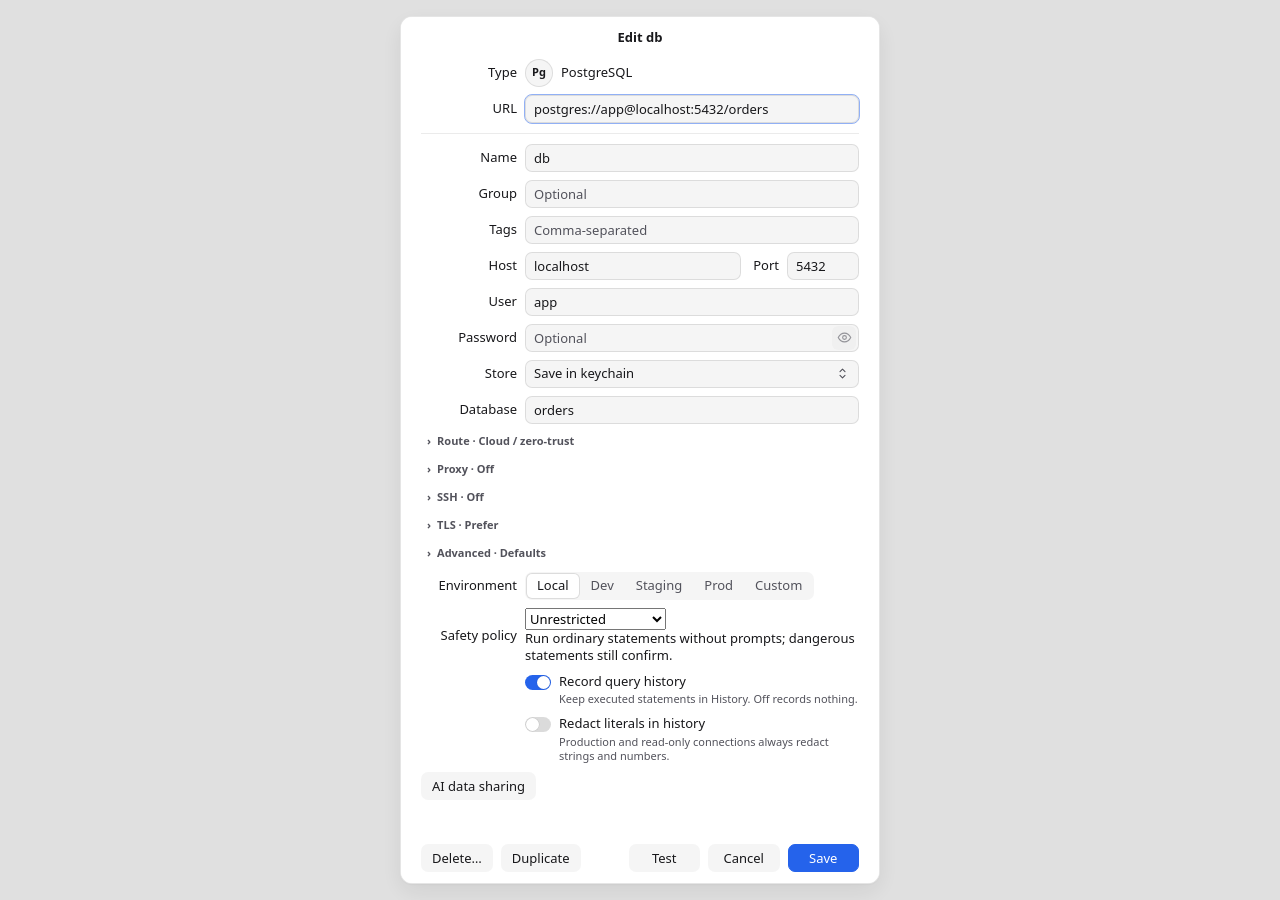
Test: shows Test connection step by step with timings, the failing step and its hint
Click the button "Test" at (664, 858), box [628,844,700,872]
(page scrolled)
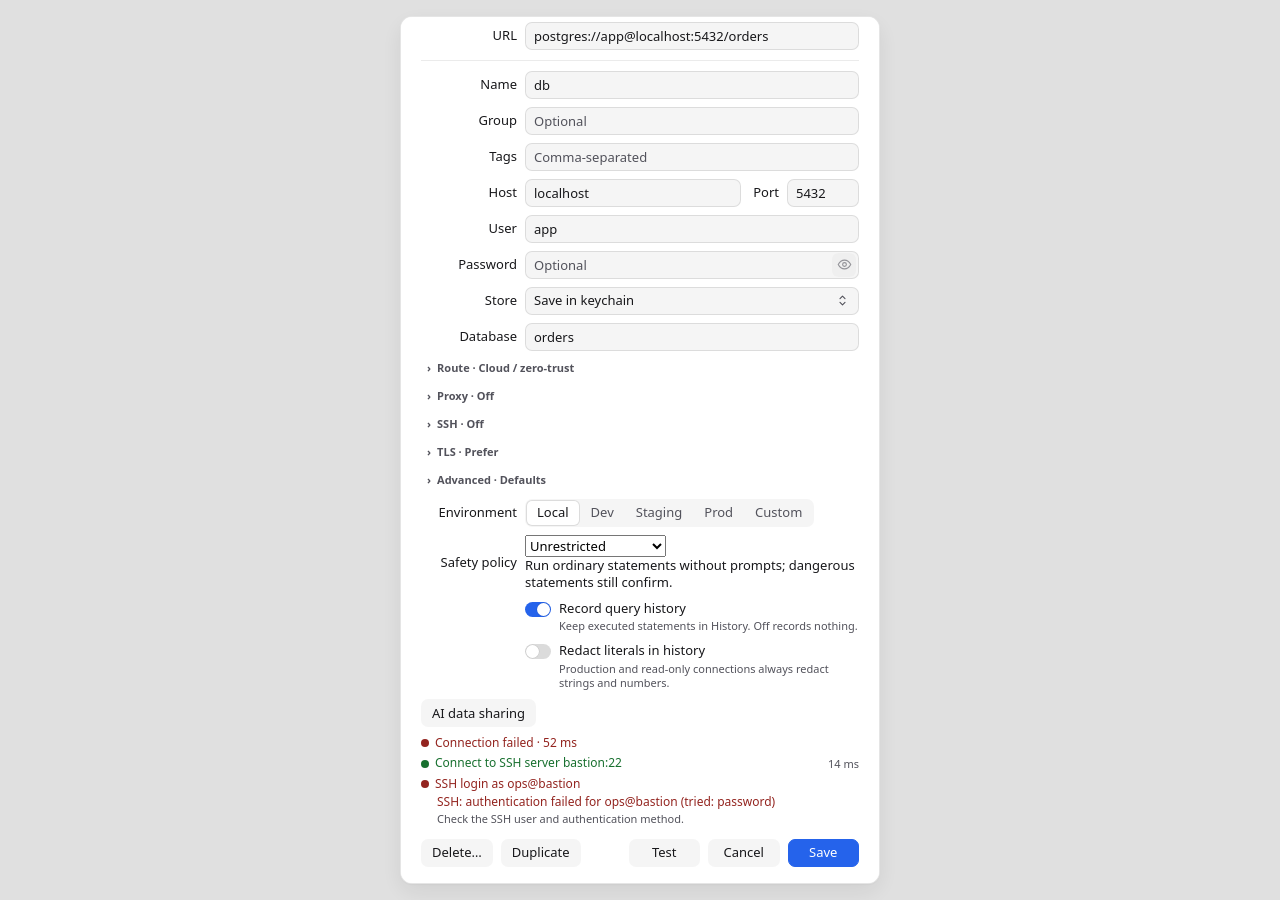
Expected: the message shows "Connection failed · 52 ms", [435,734,577,751]
Expected: the number of list items is 2, [421,756,859,772]; [421,775,775,826]
Expected: the list item "Connect to SSH server bastion:22 14 ms" is shown, [421,756,859,772]
Click the button "Test" at (664, 853), box [628,839,700,867]
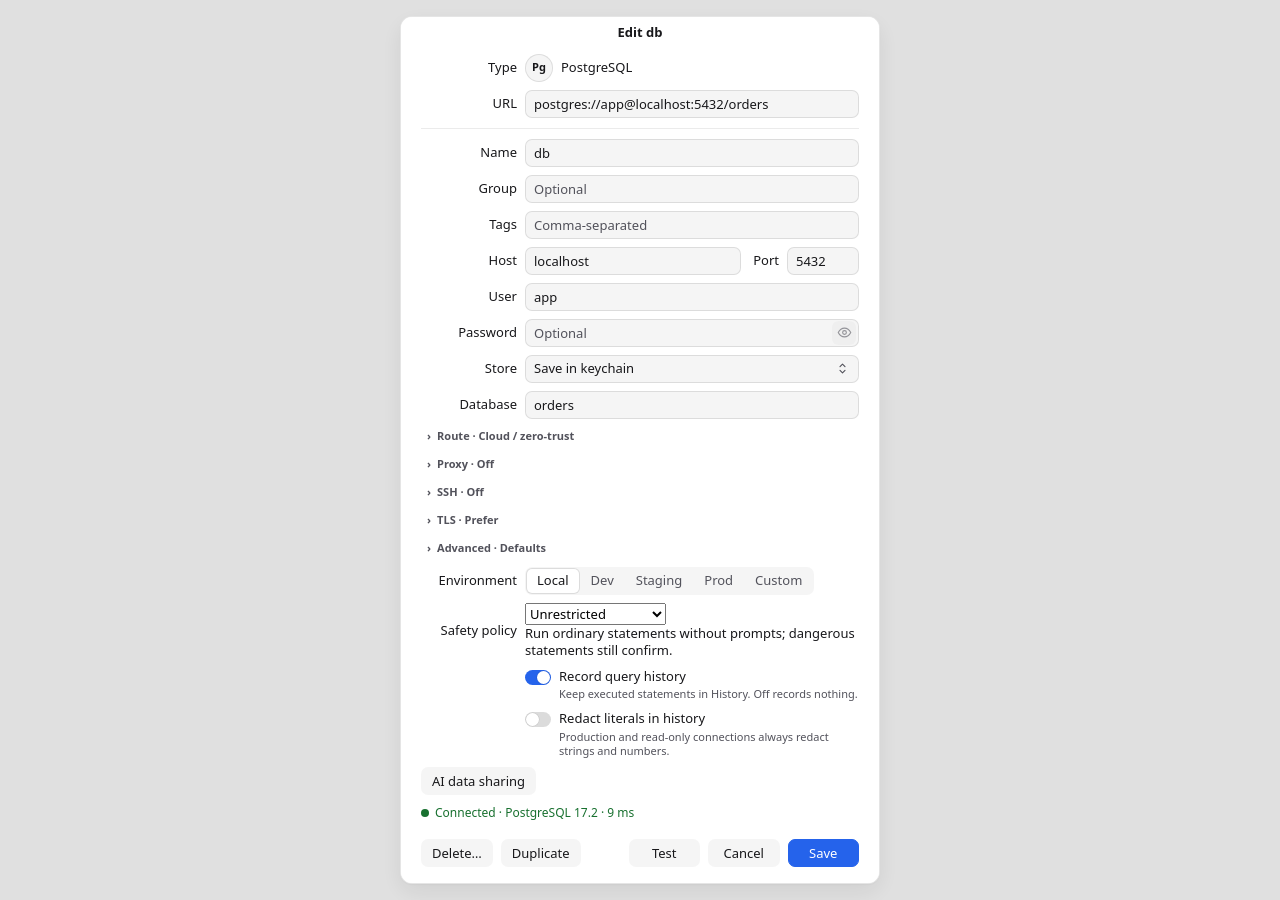
Expected: the text "Connected · PostgreSQL 17.2 · 9 ms" is shown, [421,805,634,821]
